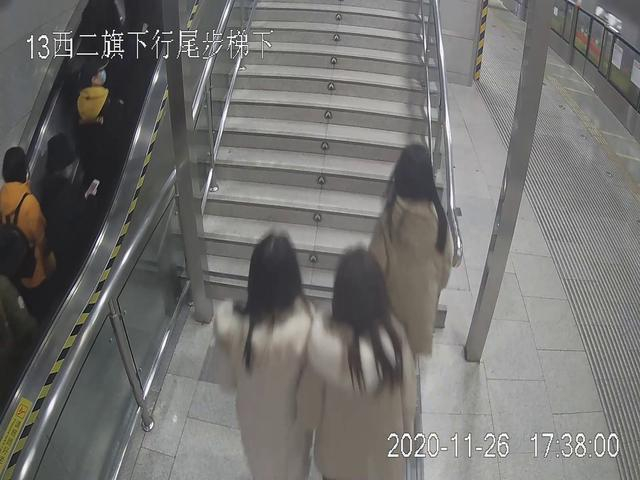person: (353, 143, 477, 388), (203, 230, 323, 480), (311, 234, 418, 479)
